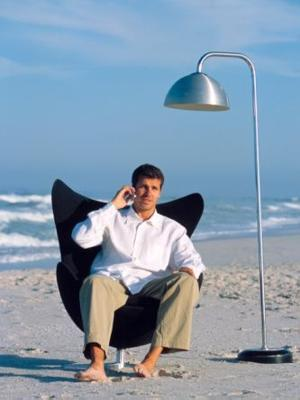person: (70, 163, 206, 384)
